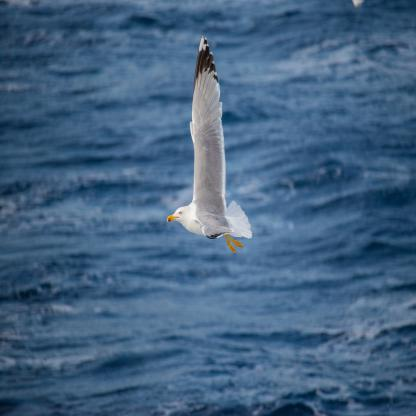bird: (166, 35, 252, 255)
